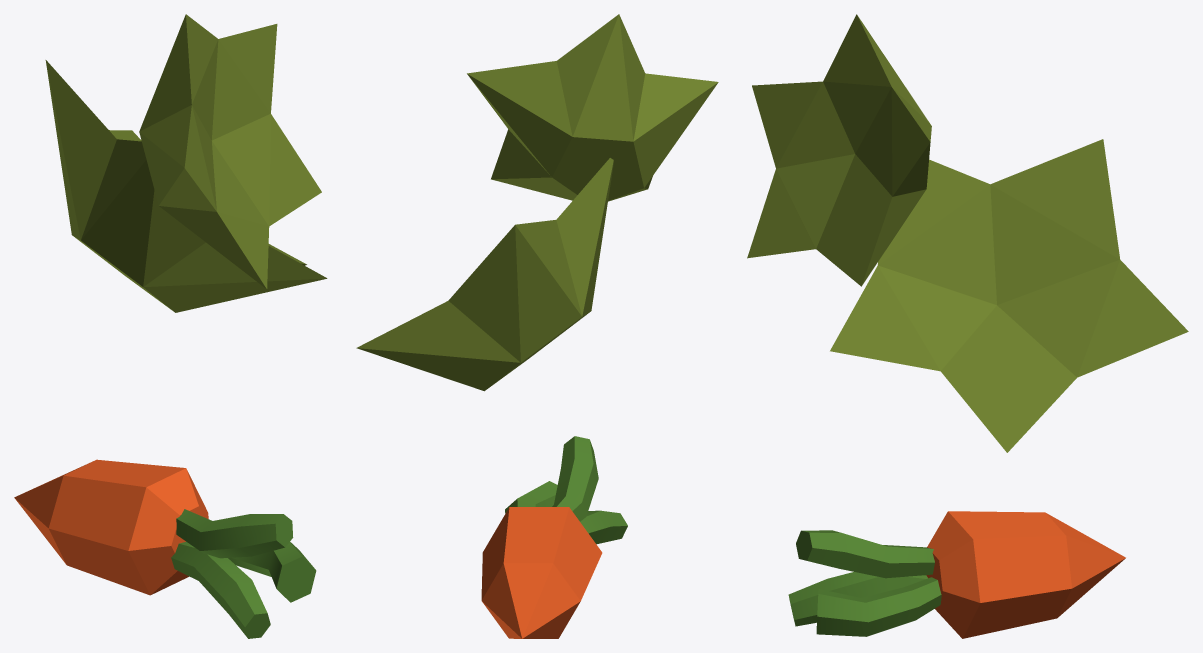
3 views of the same model, side by side, from view 1: azimuth 30°, elevation 25°; view 2: azimuth 150°, elevation 25°; view 3: azimuth 270°, elevation 25° (orthographic). The views are drawn at different scales.
Visible parts, largest first — view 1: Box15961_green2_0, Box15960_green2_0, Line1482_red2_0, Line1482_green_0; view 2: Box15961_green2_0, Box15960_green2_0, Line1482_red2_0, Line1482_green_0; view 3: Box15960_green2_0, Box15961_green2_0, Line1482_red2_0, Line1482_green_0.
Boxes of the visible parts, x1,y1,x2,y2 form: Box15961_green2_0: (139, 14, 321, 288); Box15960_green2_0: (45, 60, 327, 312); Line1482_red2_0: (14, 459, 208, 595); Line1482_green_0: (171, 509, 316, 638); Box15961_green2_0: (467, 14, 718, 201); Box15960_green2_0: (356, 158, 613, 391); Line1482_red2_0: (481, 507, 602, 638); Line1482_green_0: (505, 436, 627, 544); Box15960_green2_0: (830, 139, 1188, 452); Box15961_green2_0: (747, 14, 931, 286); Line1482_red2_0: (926, 511, 1125, 638); Line1482_green_0: (788, 530, 941, 636).
Size of the model in its own units: 119 by 276 by 185.
